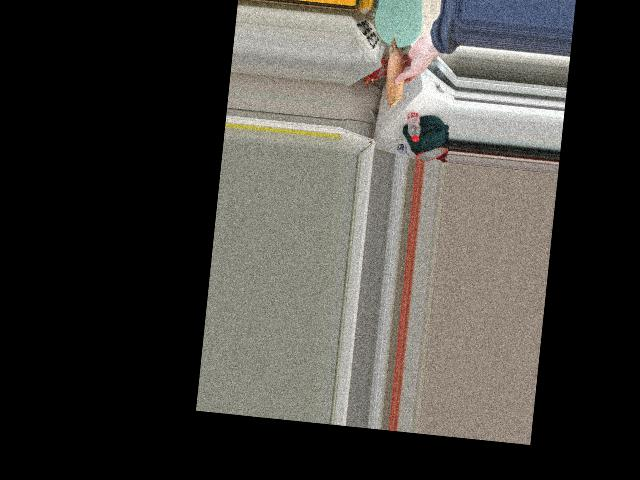sweet_potato: (382, 41, 411, 103)
